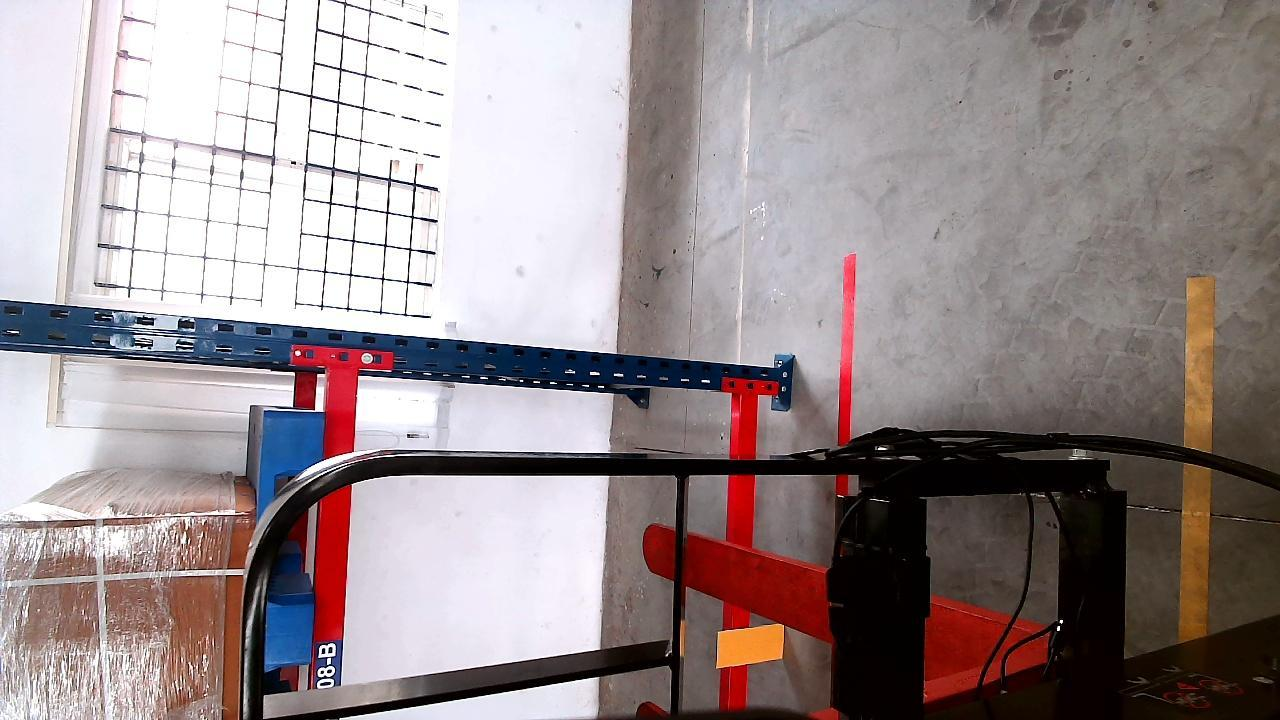red_line: (837, 254, 860, 494)
yellow_line: (1180, 267, 1213, 657)
